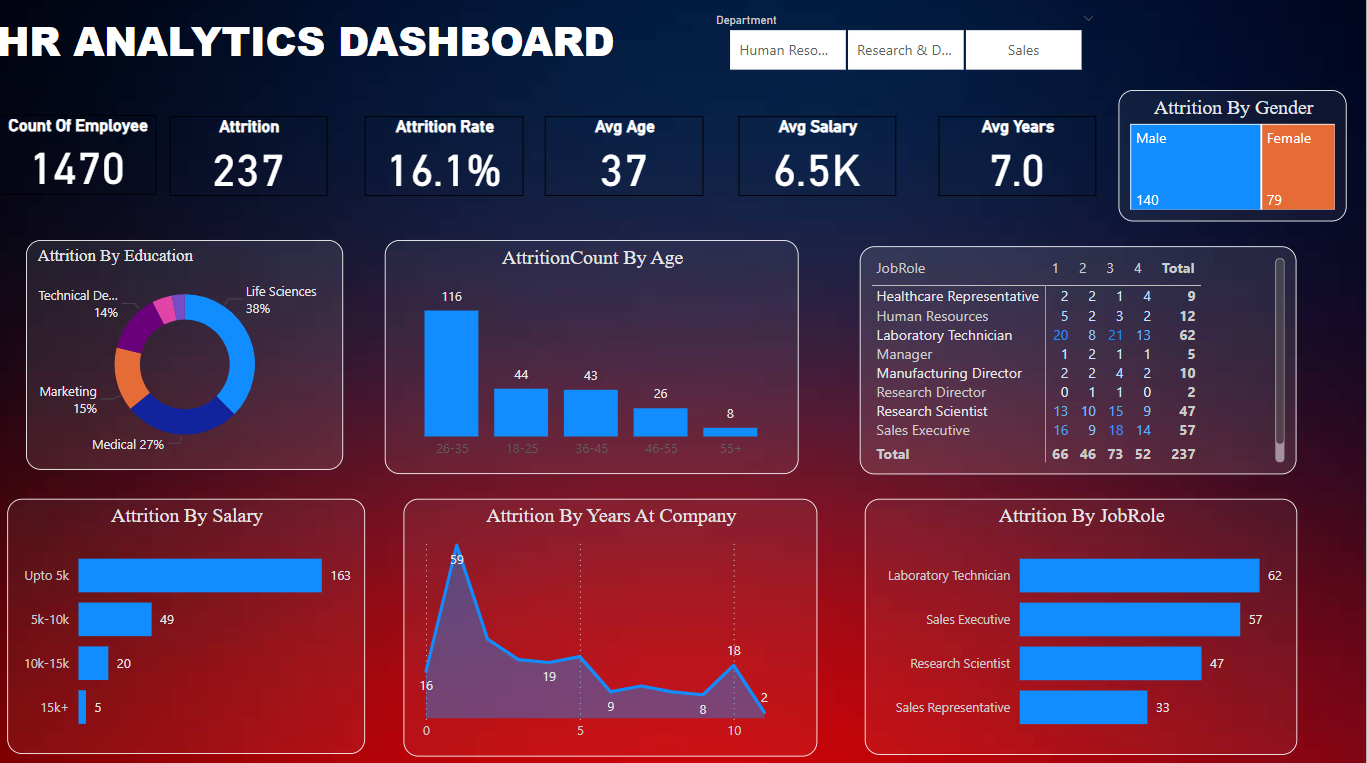

What the dashboard file says about the page in this screenshot:
{"tool":"powerbi","page":{"name":"Page 1","canvas":[1298,725],"ordinal":0},"visuals":[{"type":"card","title":"Count Of Employee","fields":{"Values":["CountNonNull(HR_Analytics.EmpID)"]},"box":[7.5,113.4,148.9,75.1],"z":0},{"type":"card","title":"Avg Age","fields":{"Values":["Avg(HR_Analytics.Age)"]},"box":[522.4,114.1,149.8,75.5],"z":1000},{"type":"card","title":"Attrition Rate","fields":{"Values":["HR_Analytics.AttritionRate"]},"box":[353.1,114.1,149.8,75.5],"z":2000},{"type":"card","title":"Attrition","fields":{"Values":["Sum(HR_Analytics.AttritionCount)"]},"box":[168,114.1,148.6,75.5],"z":3000},{"type":"card","title":"Avg Salary","fields":{"Values":["Avg(HR_Analytics.MonthlyIncome)"]},"box":[705,114.1,148.6,75.5],"z":4000},{"type":"card","title":"Avg Years","fields":{"Values":["Avg(HR_Analytics.YearsAtCompany)"]},"box":[893.7,114.1,148.6,75.5],"z":5000},{"type":"donutChart","title":"Attrition By Education","fields":{"Category":["HR_Analytics.EducationField"],"Y":["Sum(HR_Analytics.AttritionCount)"]},"box":[33.2,231.3,299.2,216.8],"z":6000},{"type":"pivotTable","title":"Job Satifaction","fields":{"Rows":["HR_Analytics.JobRole"],"Columns":["HR_Analytics.JobSatisfaction"],"Values":["Sum(HR_Analytics.AttritionCount)"]},"box":[819.6,237.1,411.9,215.4],"z":7000},{"type":"columnChart","title":" AttritionCount By Age","fields":{"Category":["HR_Analytics.AgeGroup"],"Y":["Sum(HR_Analytics.AttritionCount)"]},"box":[371.5,231.3,390.3,221.2],"z":8000},{"type":"barChart","title":" Attrition By Salary","fields":{"Category":["HR_Analytics.SalarySlab"],"Y":["Sum(HR_Analytics.AttritionCount)"]},"box":[15.8,474.9,337.3,241.1],"z":9000},{"type":"barChart","title":" Attrition By JobRole","fields":{"Category":["HR_Analytics.JobRole"],"Y":["Sum(HR_Analytics.AttritionCount)"]},"box":[823.9,475.5,407.6,241.4],"z":10000},{"type":"areaChart","title":" Attrition By Years At Company","fields":{"Category":["HR_Analytics.YearsAtCompany"],"Y":["Sum(HR_Analytics.AttritionCount)"]},"box":[388.8,475.5,390.3,242.8],"z":11000},{"type":"treemap","title":" Attrition By Gender","fields":{"Group":["HR_Analytics.Gender"],"Values":["Sum(HR_Analytics.AttritionCount)"]},"box":[1063.8,89.6,215.4,124.3],"z":12000},{"type":"slicer","fields":{"Values":["HR_Analytics.Department"]},"box":[670.7,11.6,381.6,65],"z":13000},{"type":"textbox","box":[0,11.6,623,63.6],"z":14000}]}

Visuals, with their boxes in screenshot pixels (x1, y1, x2, y2), scaled from the page's 1298x725 canvas onto the 1367x763 screenshot:
"Count Of Employee" card: {"left": 8, "top": 119, "right": 165, "bottom": 198}
"Avg Age" card: {"left": 550, "top": 120, "right": 708, "bottom": 200}
"Attrition Rate" card: {"left": 372, "top": 120, "right": 530, "bottom": 200}
"Attrition" card: {"left": 177, "top": 120, "right": 333, "bottom": 200}
"Avg Salary" card: {"left": 742, "top": 120, "right": 899, "bottom": 200}
"Avg Years" card: {"left": 941, "top": 120, "right": 1098, "bottom": 200}
"Attrition By Education" donutChart: {"left": 35, "top": 243, "right": 350, "bottom": 472}
"Job Satifaction" pivotTable: {"left": 863, "top": 250, "right": 1297, "bottom": 476}
" AttritionCount By Age" columnChart: {"left": 391, "top": 243, "right": 802, "bottom": 476}
" Attrition By Salary" barChart: {"left": 17, "top": 500, "right": 372, "bottom": 754}
" Attrition By JobRole" barChart: {"left": 868, "top": 500, "right": 1297, "bottom": 754}
" Attrition By Years At Company" areaChart: {"left": 409, "top": 500, "right": 821, "bottom": 756}
" Attrition By Gender" treemap: {"left": 1120, "top": 94, "right": 1347, "bottom": 225}
slicer - HR_Analytics.Department: {"left": 706, "top": 12, "right": 1108, "bottom": 81}
textbox: {"left": 0, "top": 12, "right": 656, "bottom": 79}
